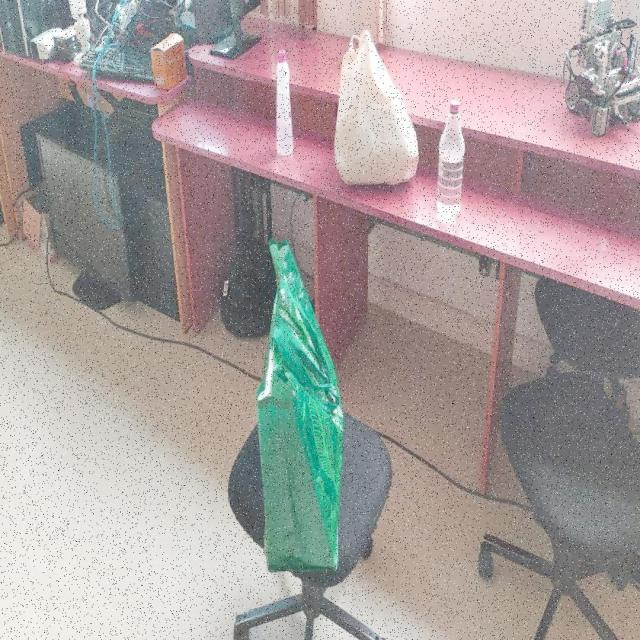Bag: (256, 236, 343, 581), (334, 30, 421, 196)
